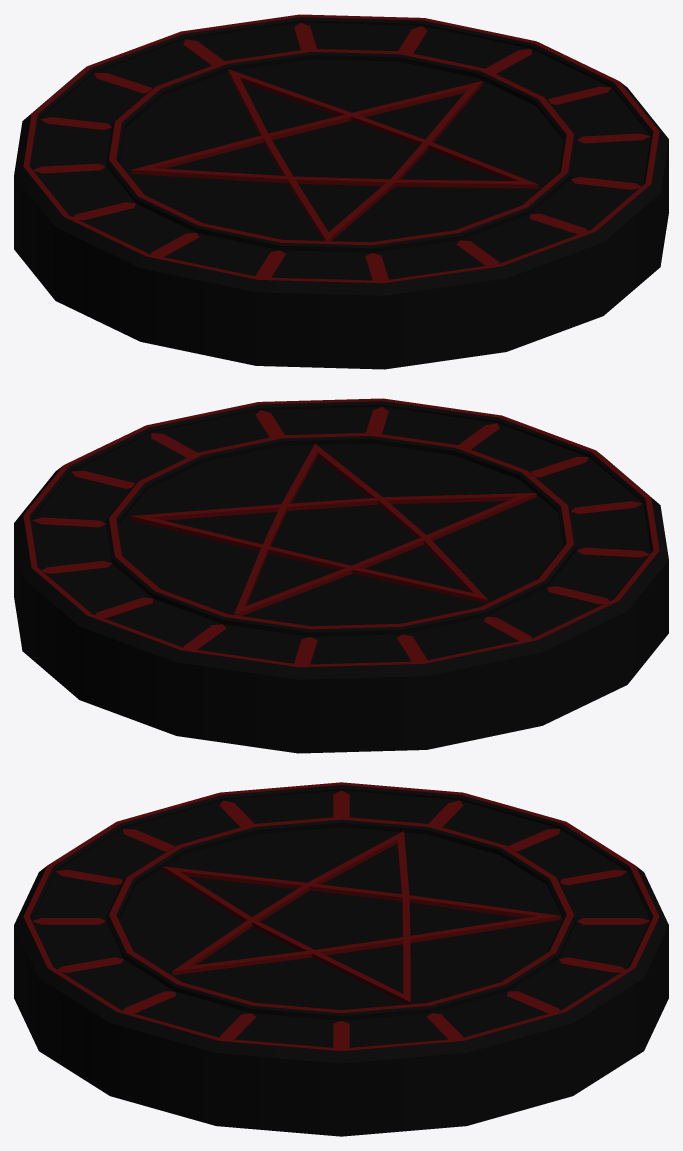
Rendered from pentagram_devil.obj.
3 renders of one model, top to bottom at view 1: azimuth 30°, elevation 25°; view 2: azimuth 150°, elevation 25°; view 3: azimuth 270°, elevation 25°, orthographic.
Parts seen in each view (by area): view 1: 0, 1; view 2: 0, 1; view 3: 0, 1.
Part boxes in pixels (x1,y1,x2,y2): 0: [14, 17, 668, 369]; 1: [23, 14, 659, 283]; 0: [14, 401, 668, 753]; 1: [23, 398, 659, 667]; 0: [14, 785, 668, 1136]; 1: [23, 782, 659, 1051].
Size of the model in its own units: 0.8621 by 0.121 by 0.8621.
